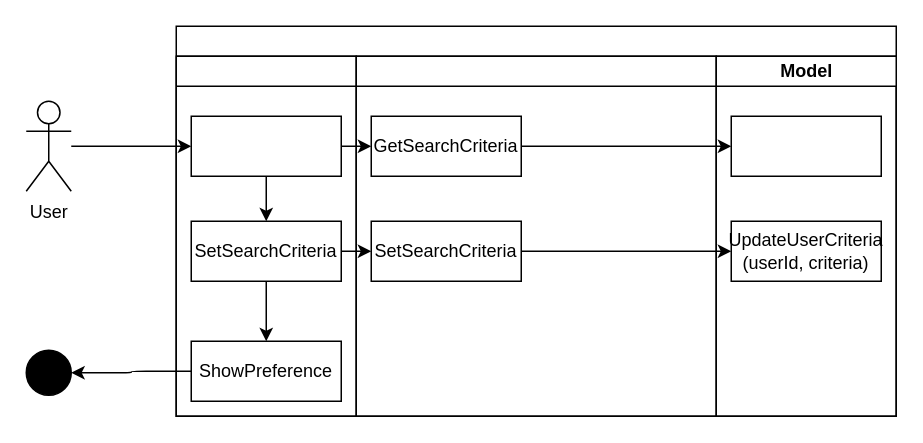
This 923x443 diagram has some shape labels left out. The box of each missing label's shape, as (x1, y1, x2, y2) in pixels:
Business Logic: (355, 55, 716, 416)
Controller: (175, 55, 356, 416)
GetSerachCriteria (userId): (730, 115, 881, 176)
Initialize: (190, 115, 341, 176)
